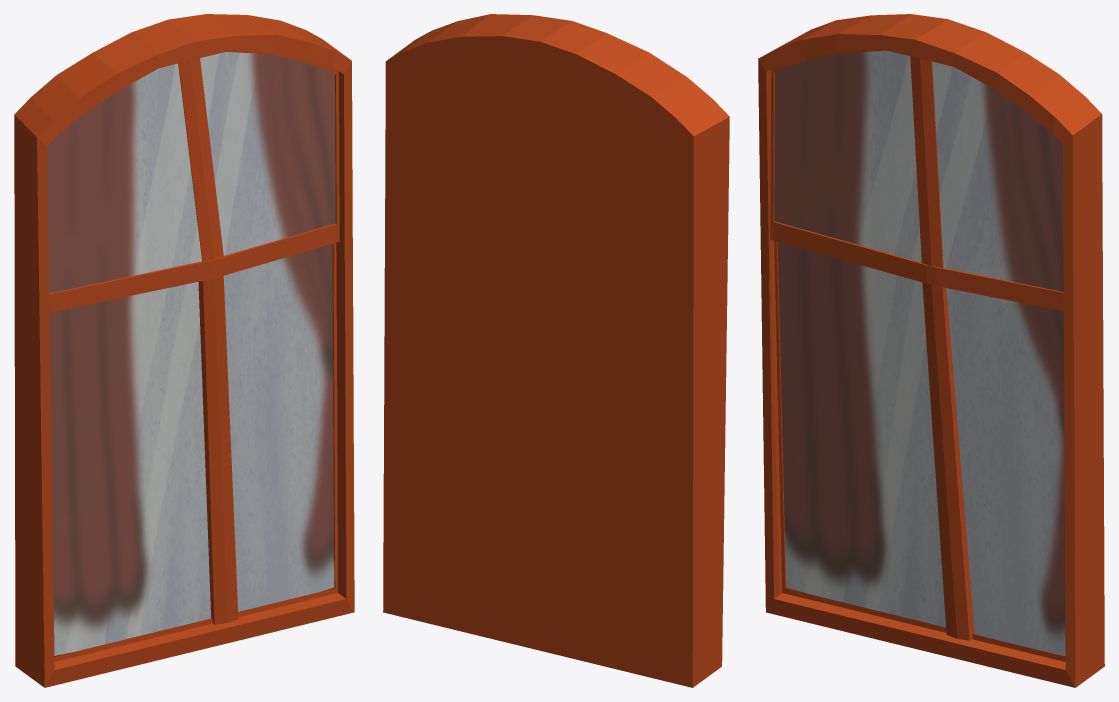
Rendered from Window14.fbx.
The picture shows the model from 3 angles, left to right: view 1: azimuth 30°, elevation 25°; view 2: azimuth 150°, elevation 25°; view 3: azimuth 330°, elevation 25°; orthographic projection.
Parts seen in each view (by area): view 1: Cube.090; view 2: Cube.090; view 3: Cube.090.
Part boxes in pixels (x1=…): Cube.090: x1=14, y1=14, x2=354, y2=687; Cube.090: x1=383, y1=14, x2=729, y2=687; Cube.090: x1=758, y1=14, x2=1104, y2=687.
Size of the model in its own units: 120 by 220 by 20.46.
